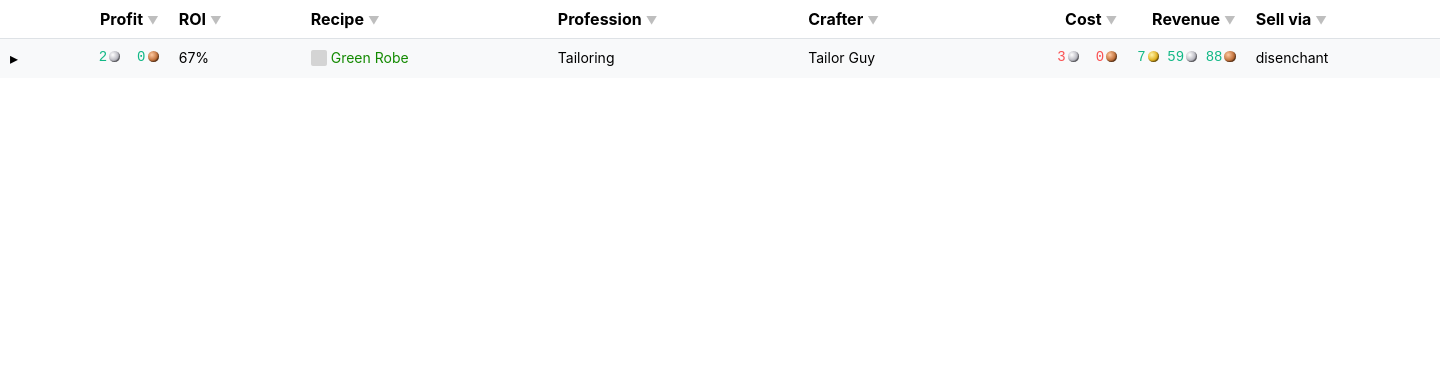
it: ResultsTable › shows mailing to an enchanter on the flow chart
This screenshot has width=1440, height=388.
Click the button named "Details for Green Robe" at (14, 58), box [10, 46, 18, 71]
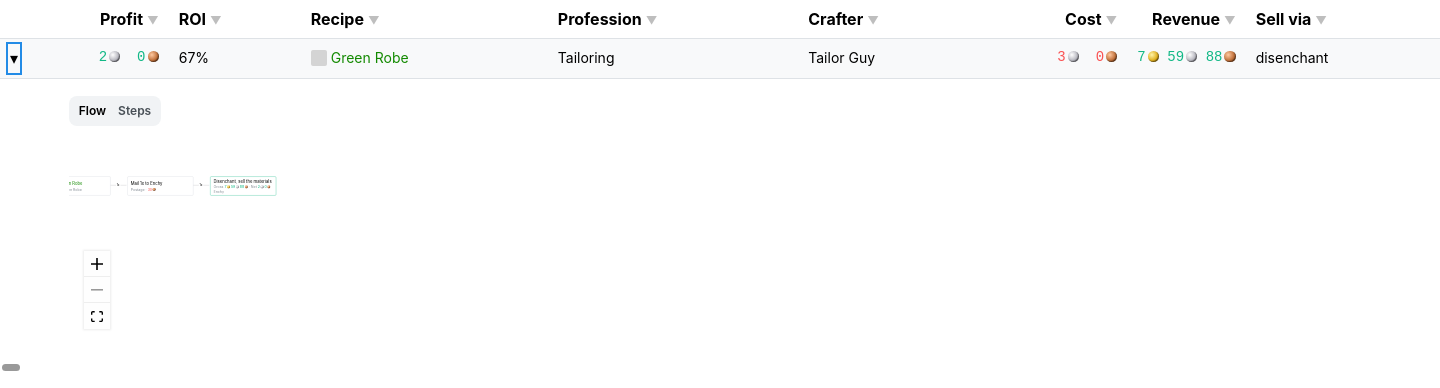
Check: the text "Enchy" is shown 2 times, box [213, 190, 224, 194]; [150, 180, 162, 186]
